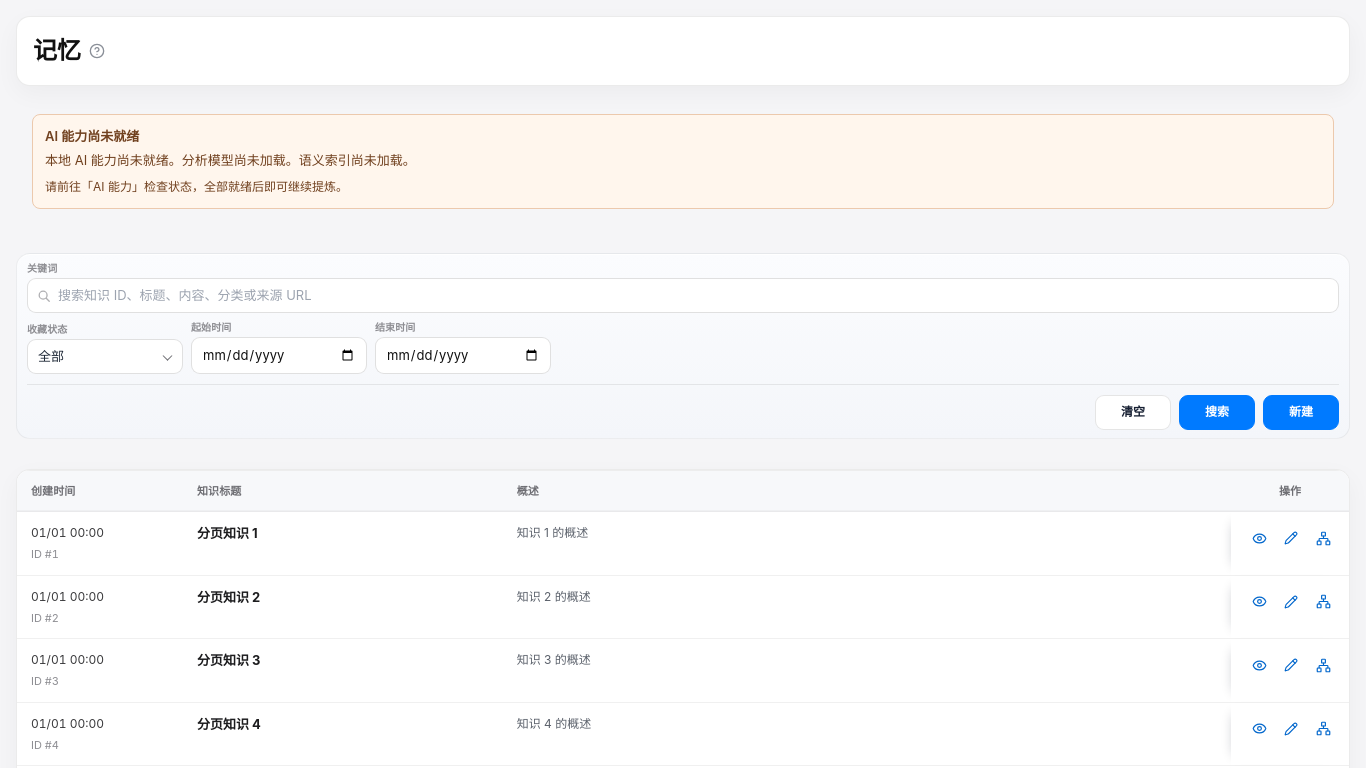
Test case: 知识记忆分页 › 首屏新建知识后重新获取当前分页，仍展示 10 条且总数增加
Click the button "新建" at (1301, 412), box 1263,395 -> 1339,430
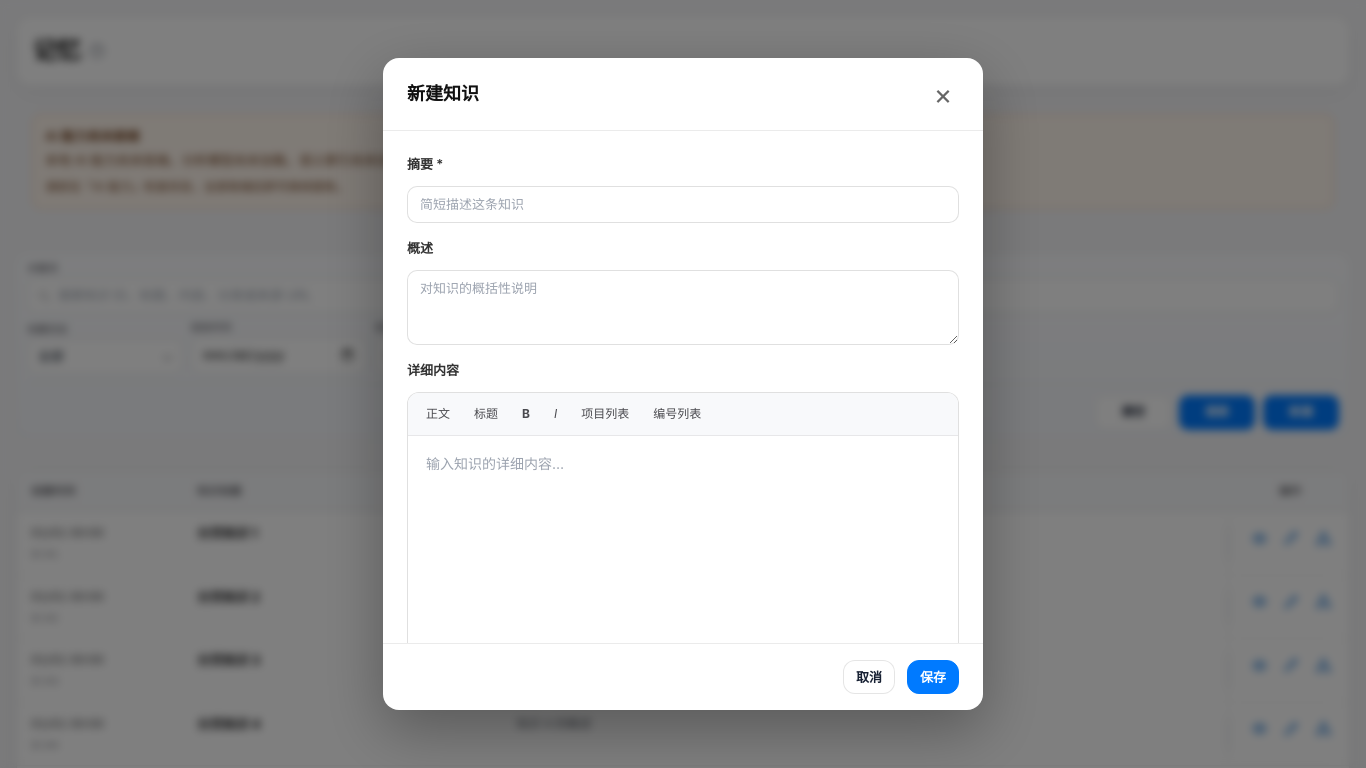
Type "新建的分页知识" into the field with placeholder "简短描述这条知识" at (683, 204), box 407,186 -> 959,223
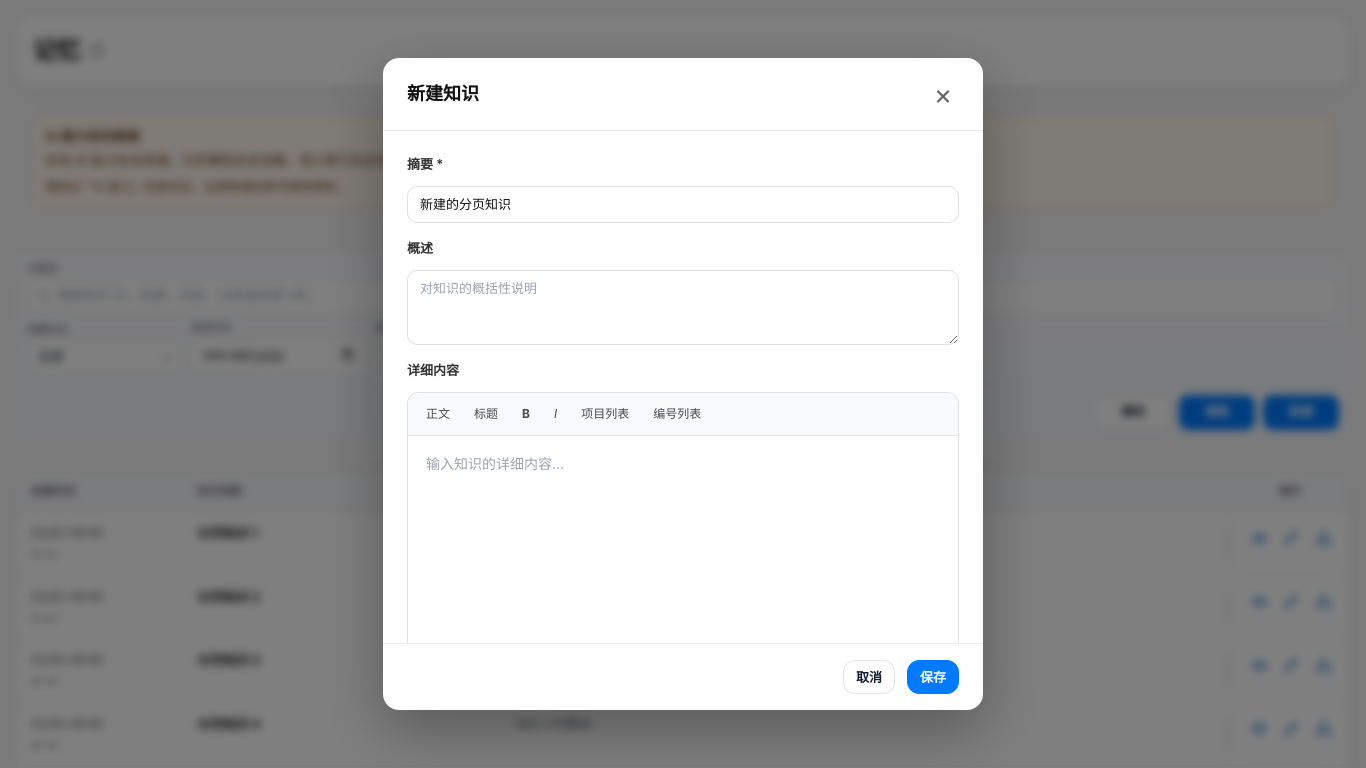
Click the button "保存" at (933, 677), box 907,660 -> 959,694
(page scrolled)
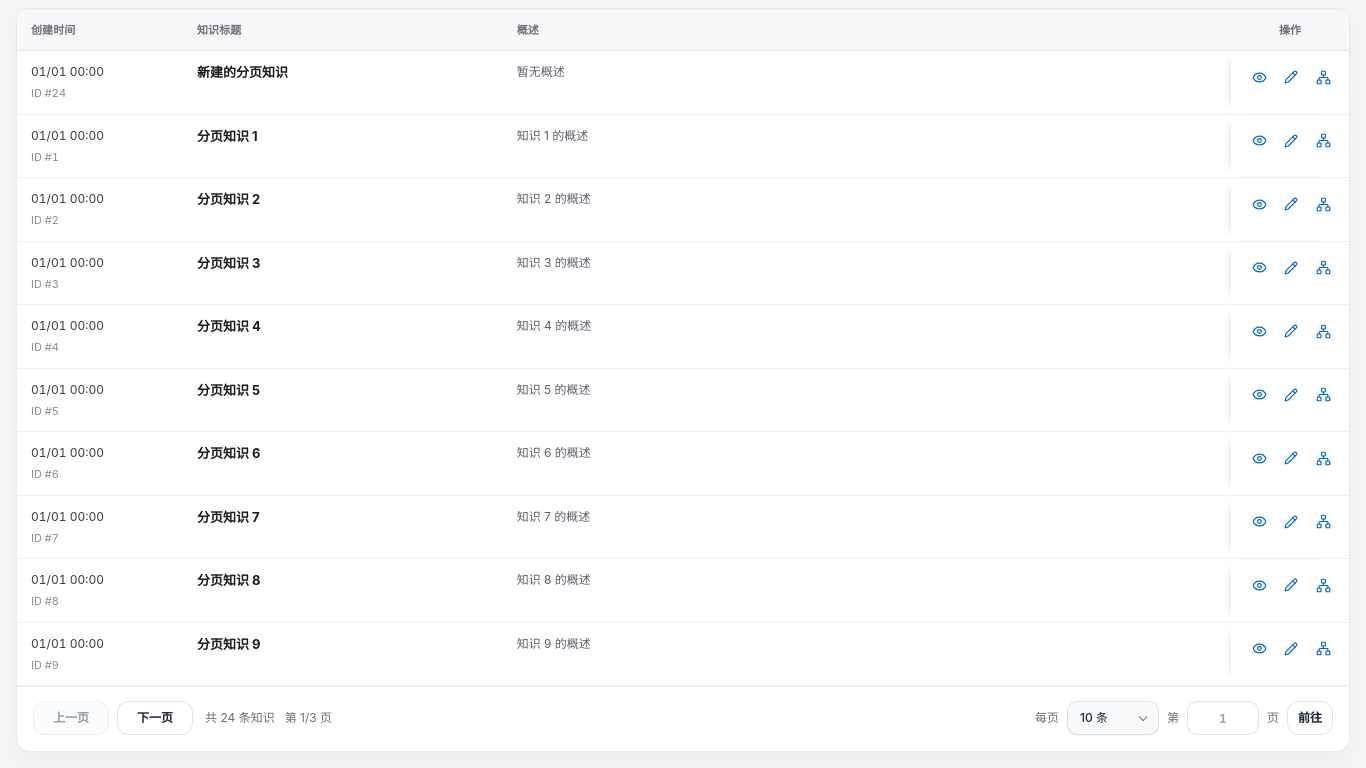
Result: the text "新建的分页知识" is shown at 197,64 -> 288,80
Result: the text "共 24 条知识" is shown at 205,709 -> 275,727
